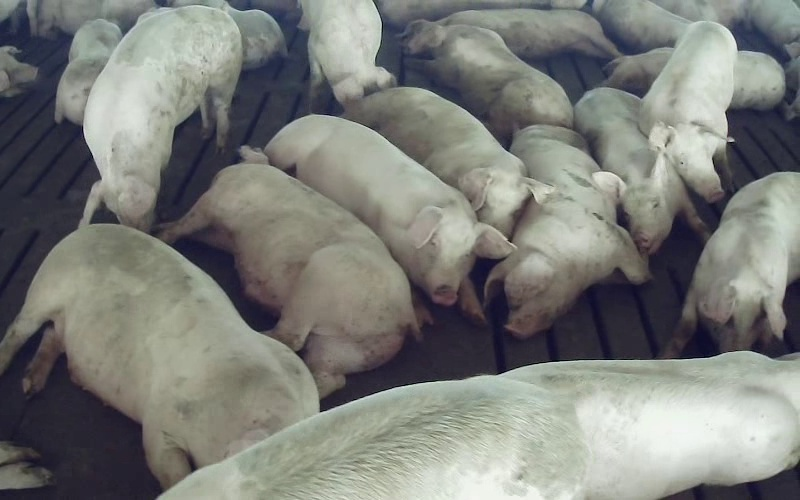pig: (0, 225, 318, 488), (159, 147, 418, 396), (160, 376, 587, 499), (264, 115, 512, 322), (506, 351, 799, 499), (82, 6, 241, 230), (485, 126, 649, 337), (344, 87, 551, 236), (662, 173, 799, 357), (574, 87, 707, 254), (639, 21, 736, 202), (427, 25, 572, 138), (403, 9, 619, 58), (299, 0, 395, 110), (55, 19, 121, 124)
